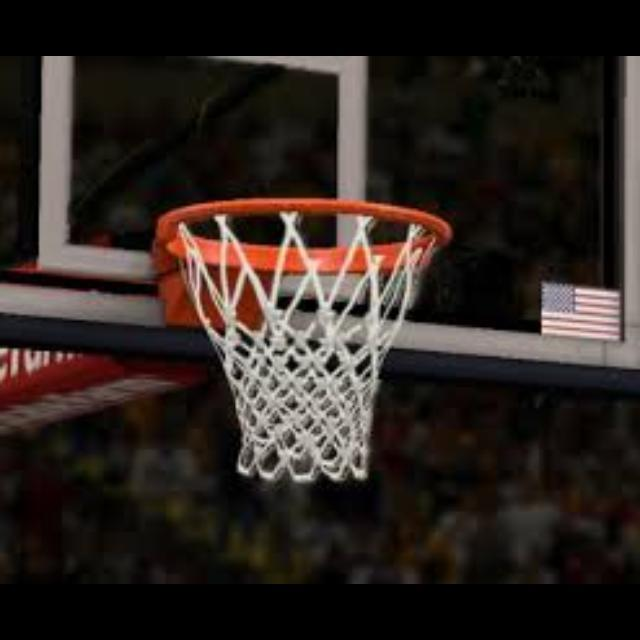rim: (160, 196, 450, 482)
